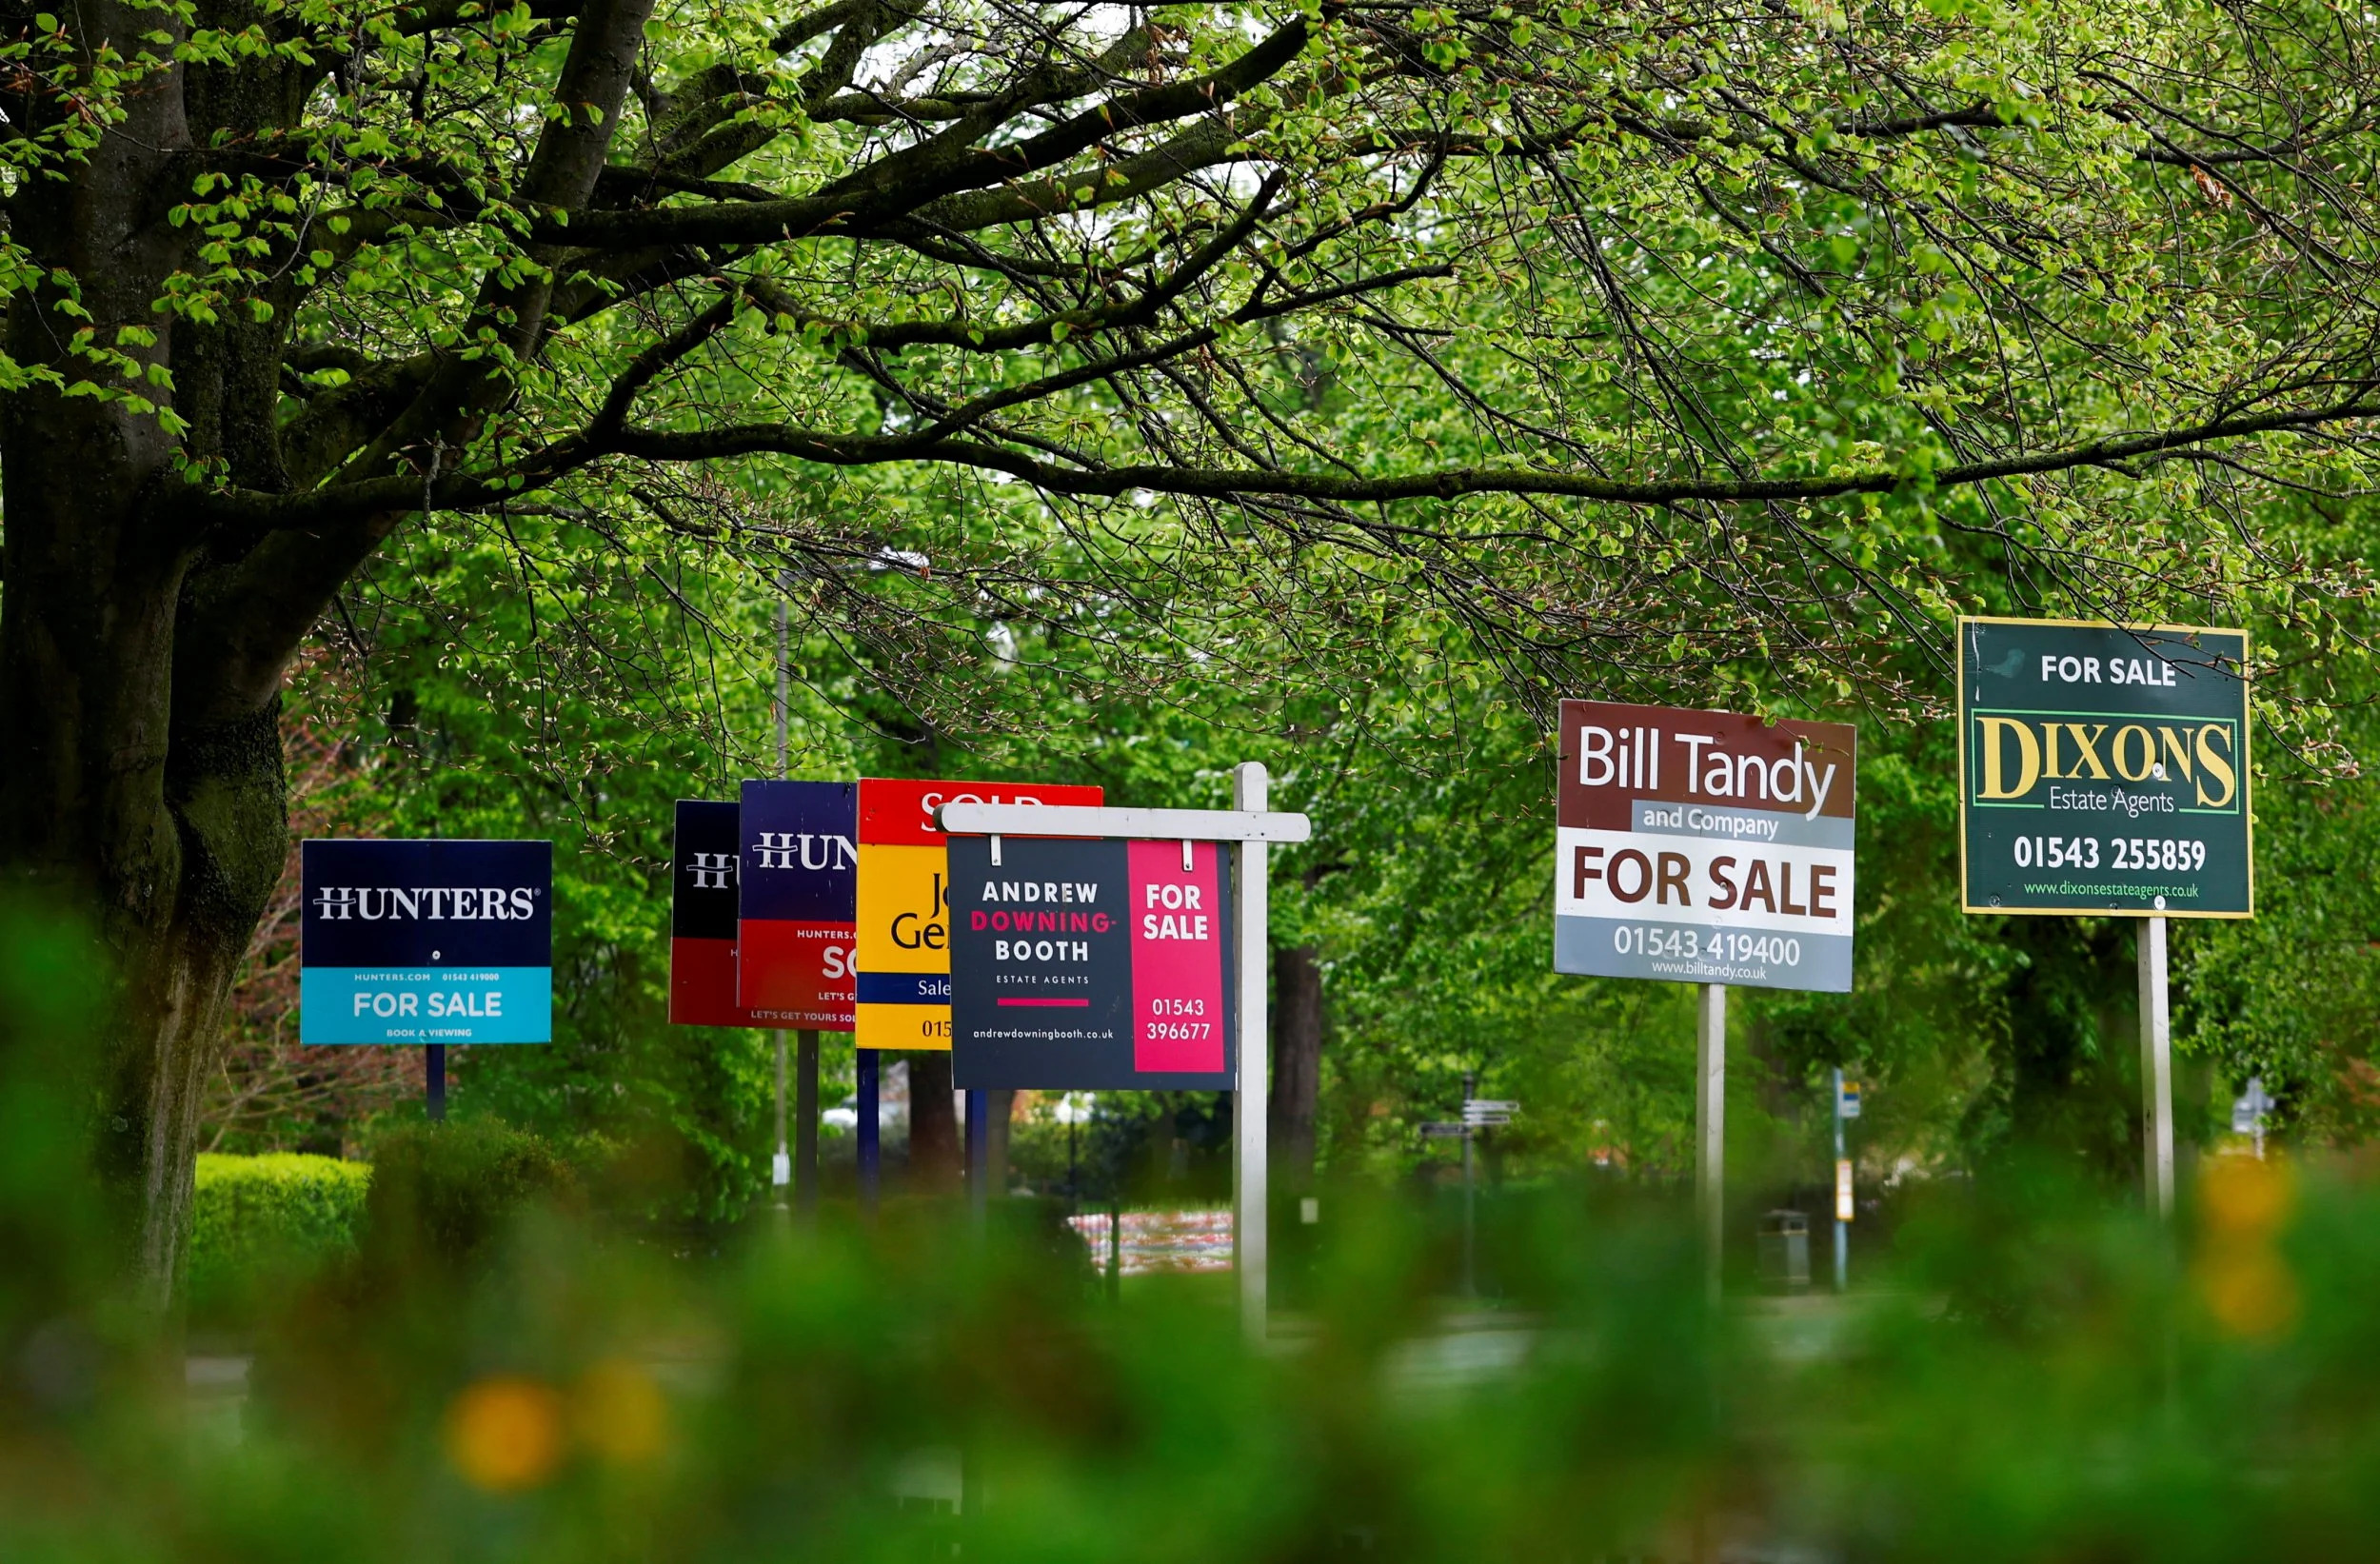property sign: (1926, 566, 2312, 974), (658, 742, 1110, 1058), (1530, 665, 1905, 1028), (940, 813, 1265, 1126), (283, 806, 567, 1068)
